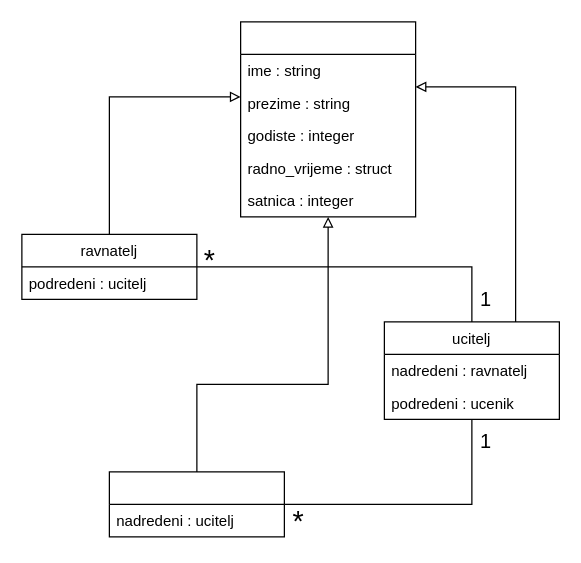
Image size: 581x563. Some labels were removed from this diagram. The box of each missing label's shape, as (x1, y1, x2, y2) in pixels:
radnik: (239, 21, 416, 217)
ucenik: (108, 471, 284, 537)
